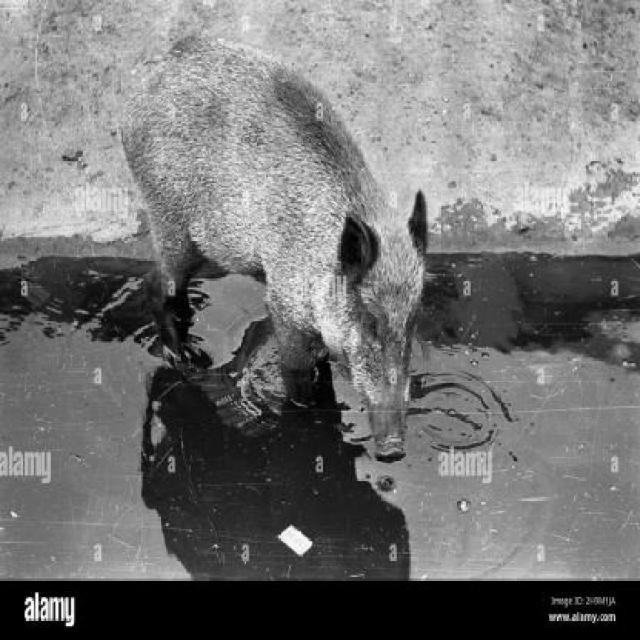wildboar: (115, 31, 432, 467)
